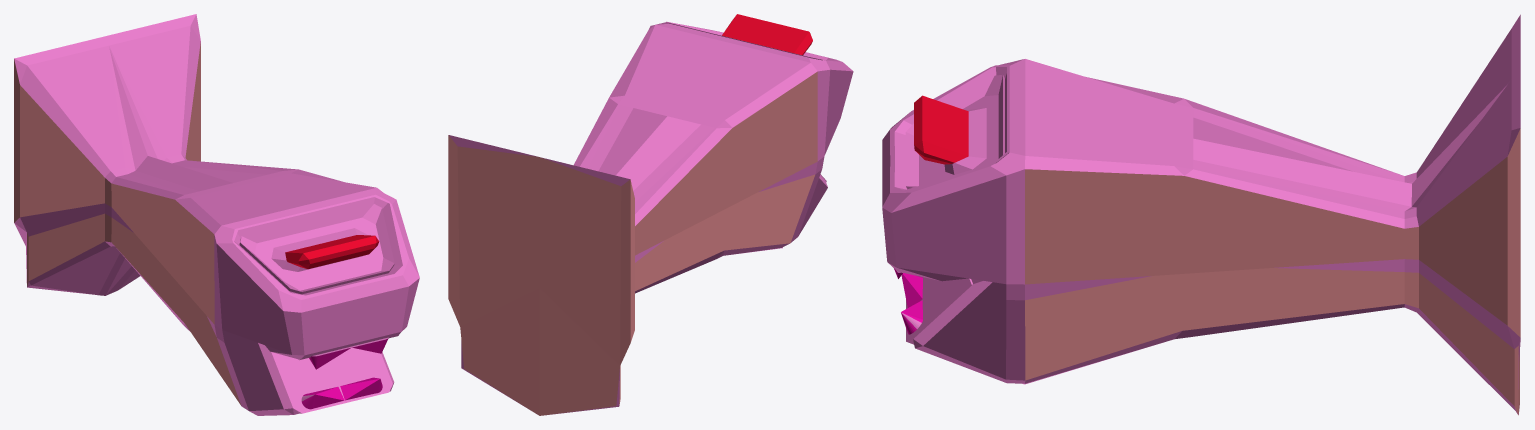
The model's file is cyberphish.fbx.
3 renders of one model, left to right at view 1: azimuth 30°, elevation 25°; view 2: azimuth 150°, elevation 25°; view 3: azimuth 270°, elevation 25°, orthographic. The views are drawn at different scales.
Parts seen in each view (by area): view 1: Cube; view 2: Cube; view 3: Cube.
Part boxes in pixels (x1=…): Cube: x1=14, y1=14, x2=419, y2=415; Cube: x1=448, y1=14, x2=853, y2=415; Cube: x1=882, y1=14, x2=1520, y2=415.
Size of the model in its own units: 129 by 176 by 307.
